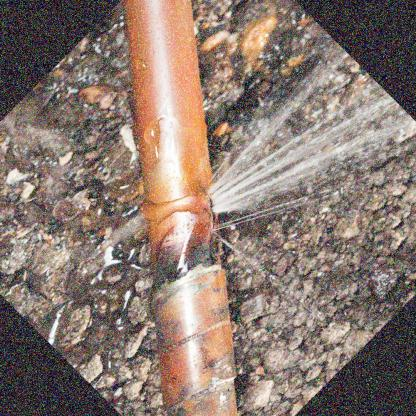burst: (176, 167, 248, 267)
